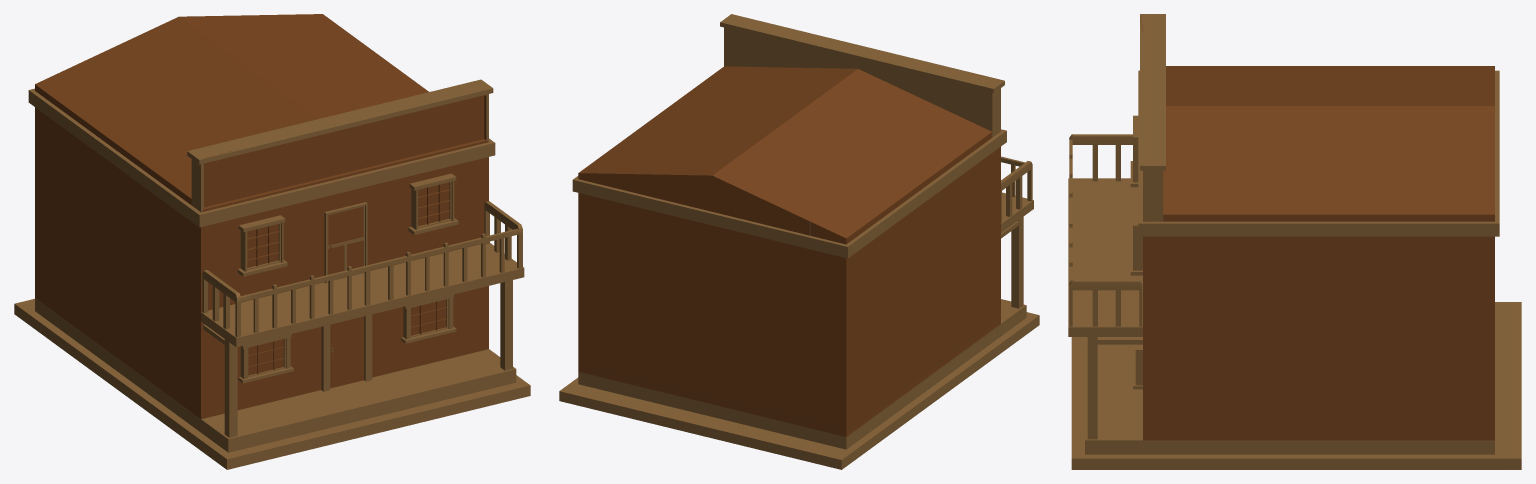
File: CasaV2.fbx
The picture shows the model from 3 angles, left to right: view 1: azimuth 30°, elevation 25°; view 2: azimuth 150°, elevation 25°; view 3: azimuth 270°, elevation 25°; orthographic projection. The views are drawn at different scales.
Parts seen in each view (by area): view 1: Casa, GradeCima, JanelaCima, JanelaBaixo, PortaBaixo, PortaCima, PilarApoio; view 2: Casa, GradeCima, PilarApoio; view 3: Casa, GradeCima, PilarApoio, JanelaCima.
Part boxes in pixels (bbox=[...]): Casa: bbox=[14, 14, 530, 469]; GradeCima: bbox=[202, 201, 522, 337]; JanelaCima: bbox=[237, 173, 458, 276]; JanelaBaixo: bbox=[238, 294, 456, 383]; PortaBaixo: bbox=[321, 314, 372, 391]; PortaCima: bbox=[324, 202, 367, 283]; PilarApoio: bbox=[203, 280, 512, 437]; Casa: bbox=[559, 14, 1039, 469]; GradeCima: bbox=[1001, 156, 1032, 222]; PilarApoio: bbox=[1001, 216, 1023, 308]; Casa: bbox=[1068, 14, 1521, 469]; GradeCima: bbox=[1069, 134, 1142, 326]; PilarApoio: bbox=[1087, 337, 1142, 439]; JanelaCima: bbox=[1130, 115, 1142, 275].
Size of the model in its own units: 948 by 851 by 1160.
